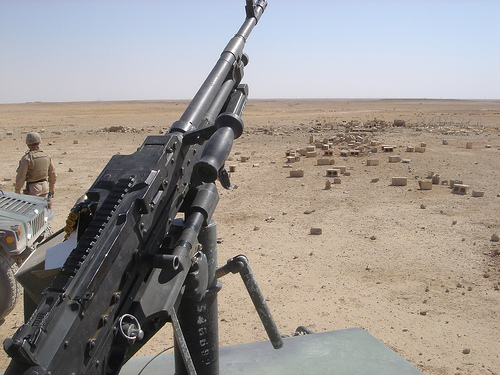rifle: (45, 2, 270, 356)
